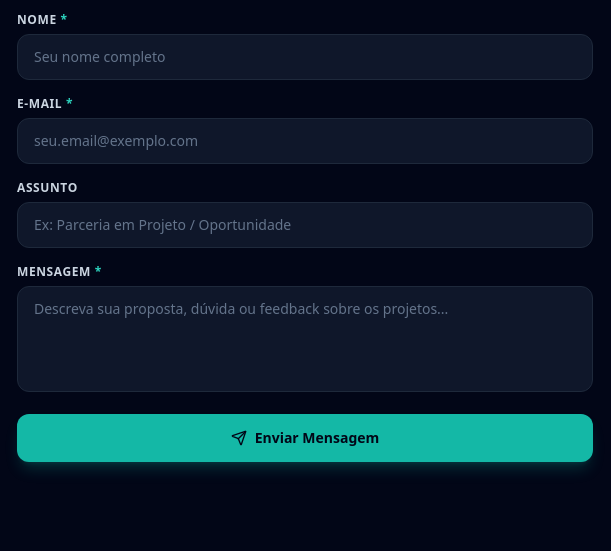
Test: ContactForm Component › exibe erro de validação para campos vazios
Click the button "Enviar Mensagem": {"x": 305, "y": 438} [17,414,593,462]
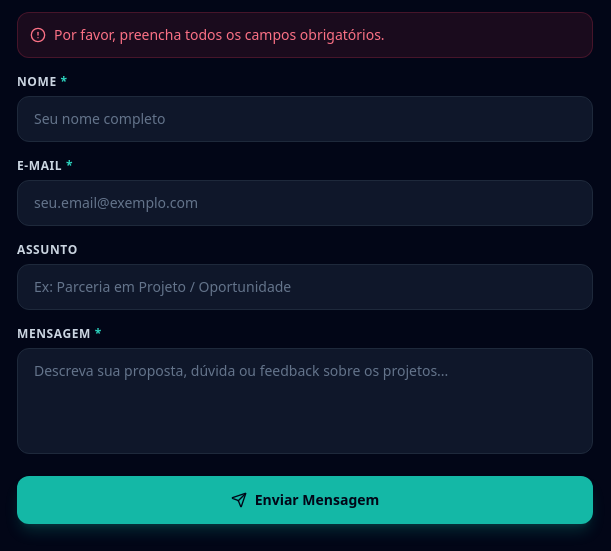
Result: the text "Por favor, preencha todos os campos obrigatórios." is shown at [54,25,385,45]
